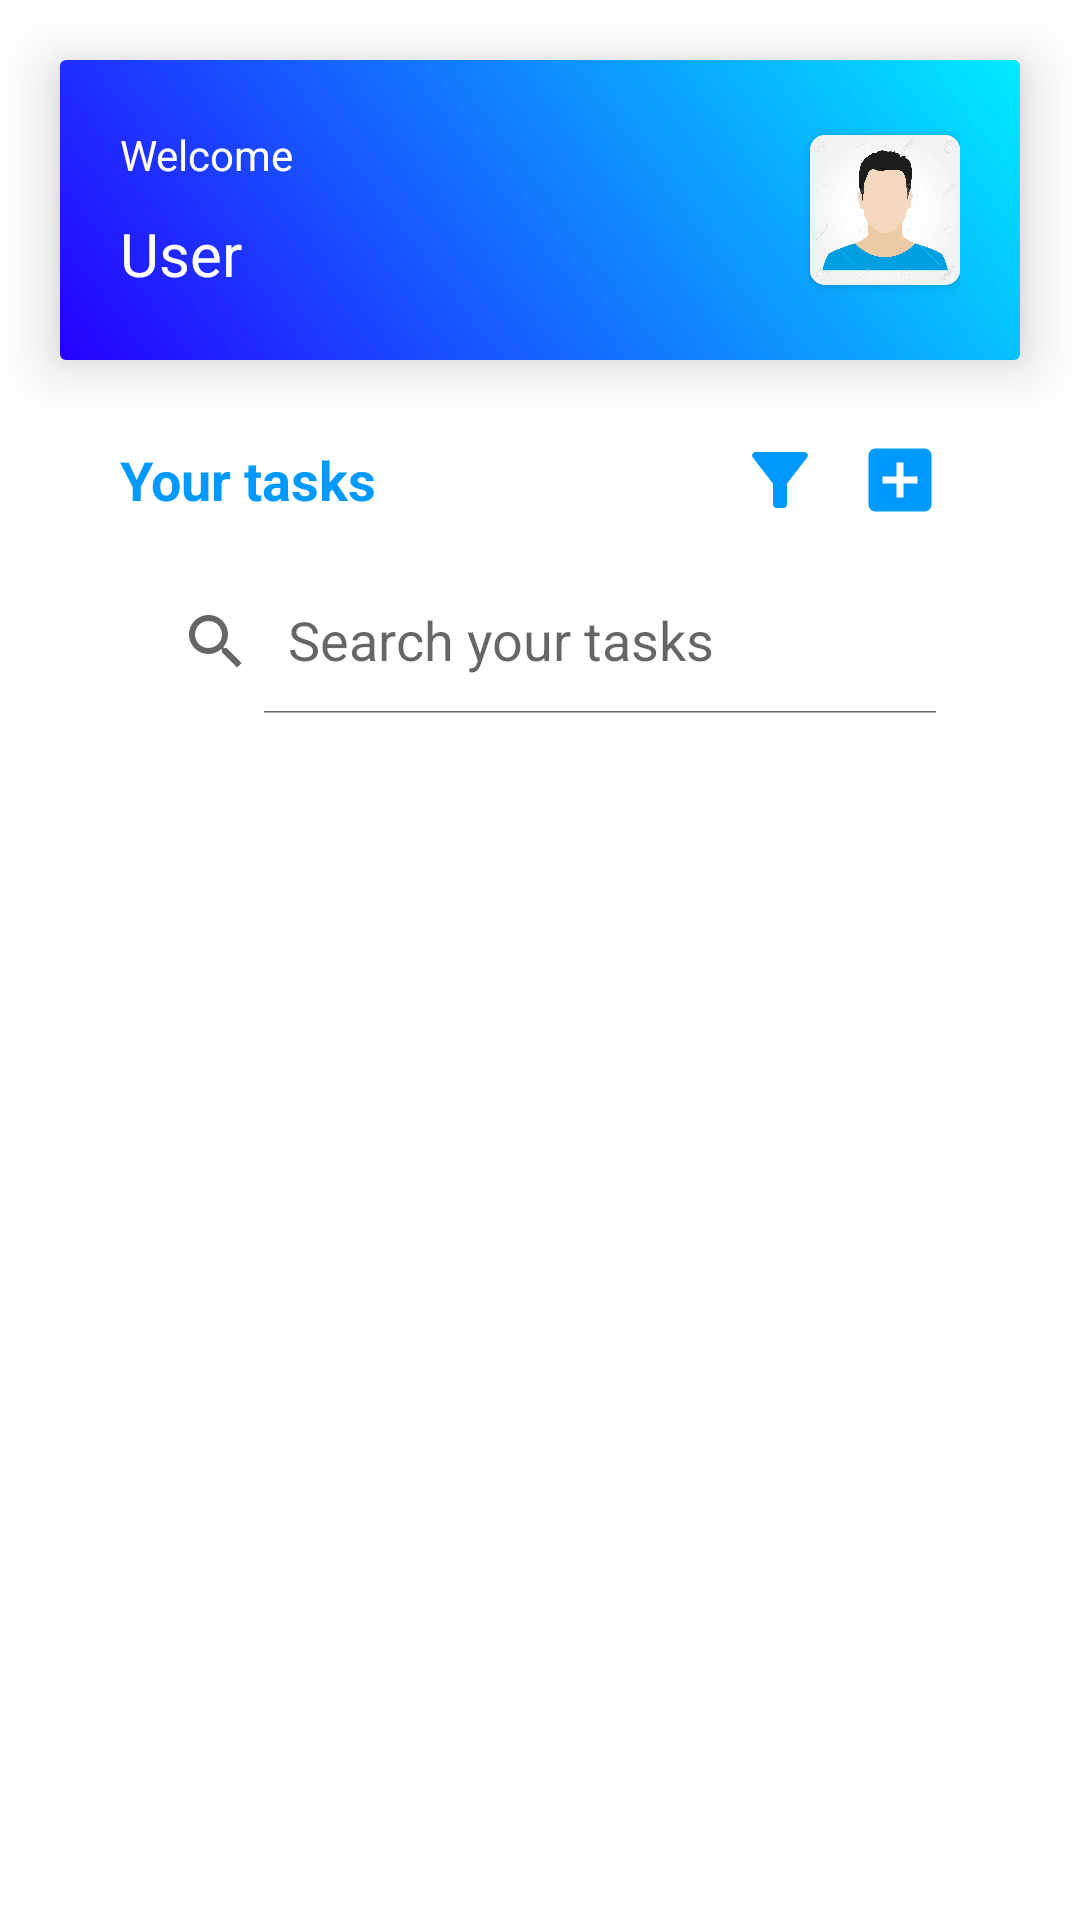

Icons on this 1080 x 1920 Android screen, each with the point to tap as (x=x, y=y):
add box: (x=900, y=480)
filter: (x=780, y=480)
profile: (x=885, y=210)
